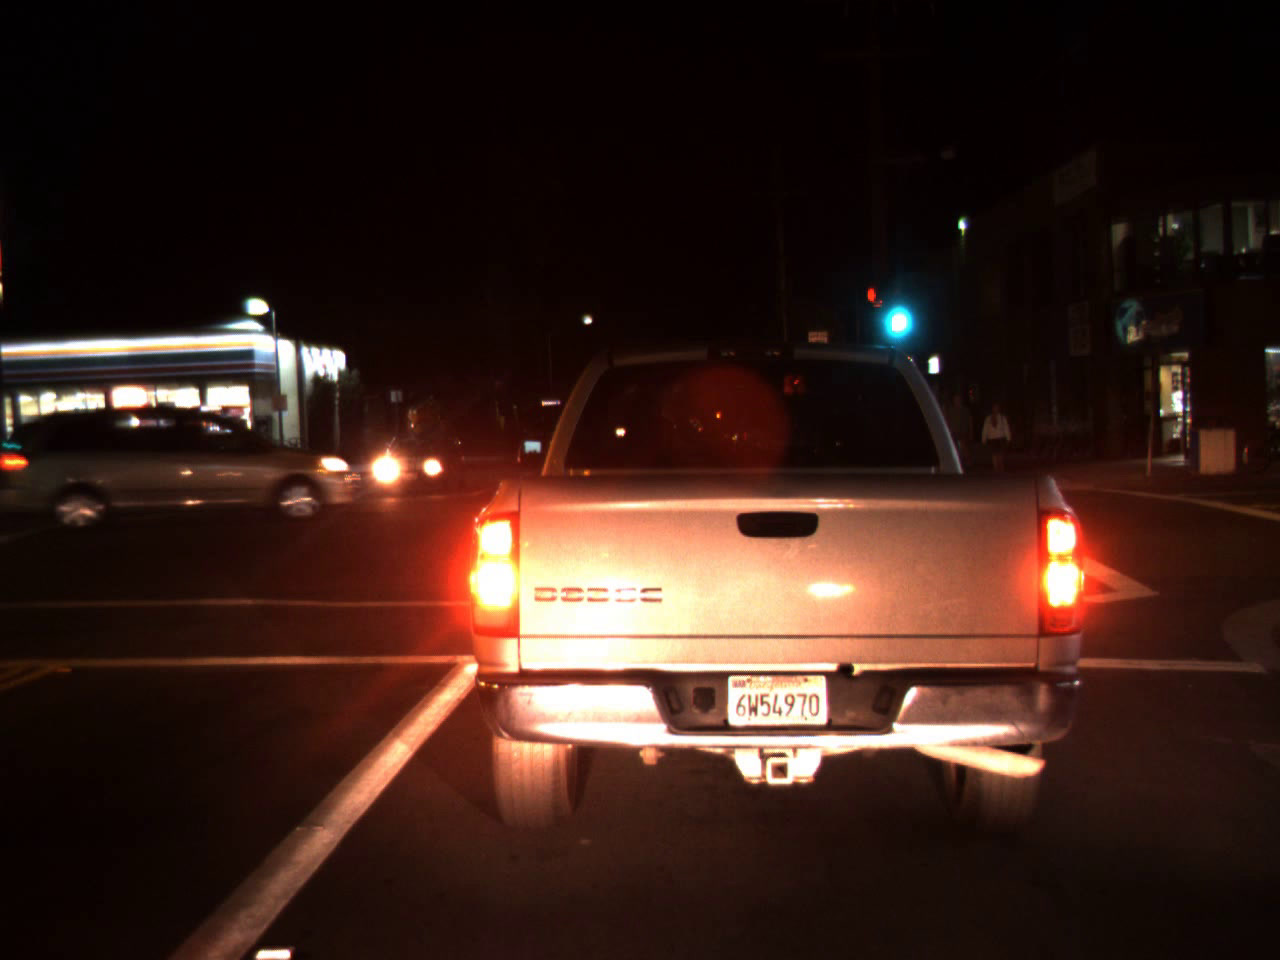go: (875, 273, 912, 345)
